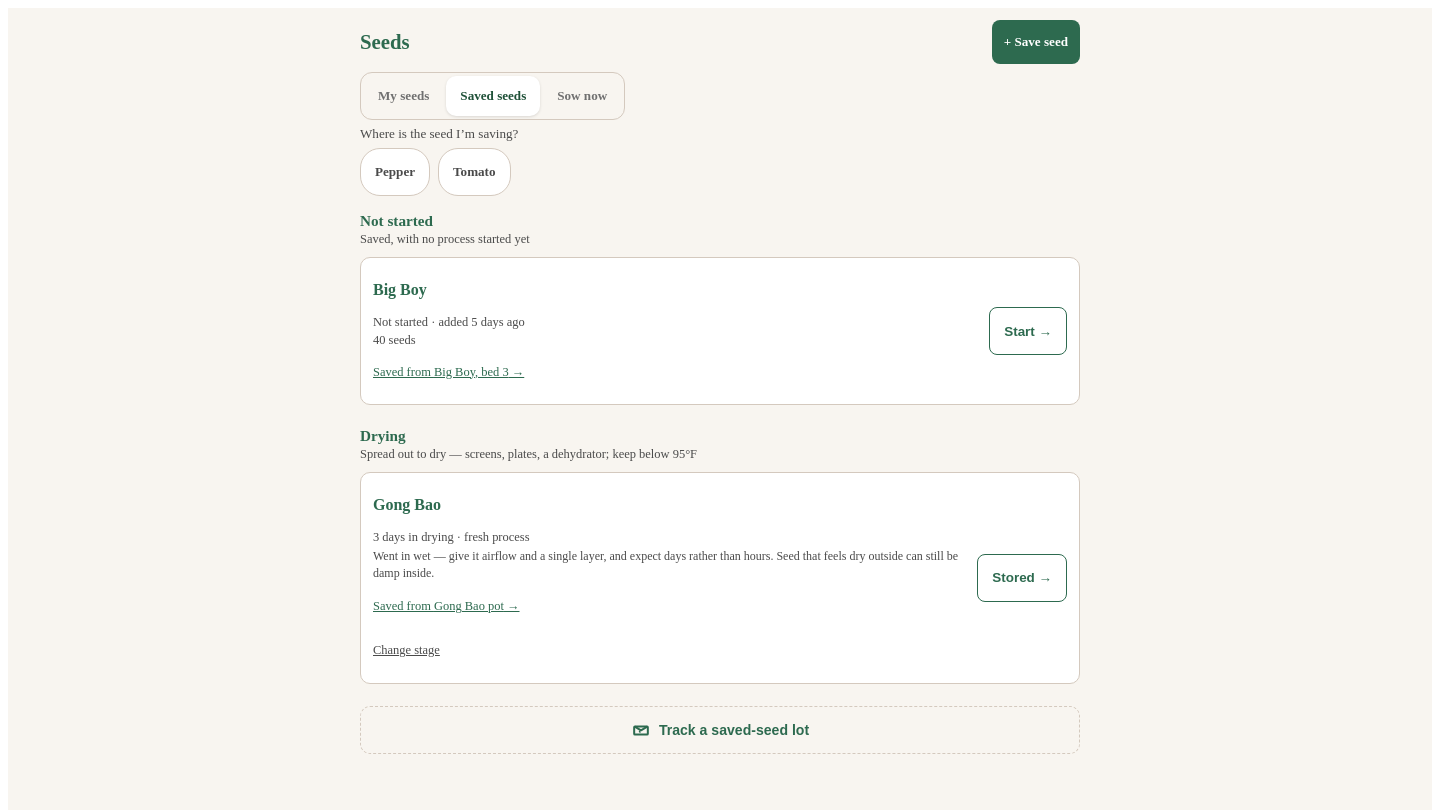
Test case: Seeds › Saved seeds — doors off a lot card, on real history › Start → opens its sheet armed: Back closes it and stays on Saved seeds
Expected: the element with test id "saved-seeds-view" is shown, [360,148,1080,754]
Expected: the element with test id "stage-section-unstarted" is shown, [360,212,1080,405]
Click the button with test id "start-lot": (1028, 331) [989,307,1067,355]
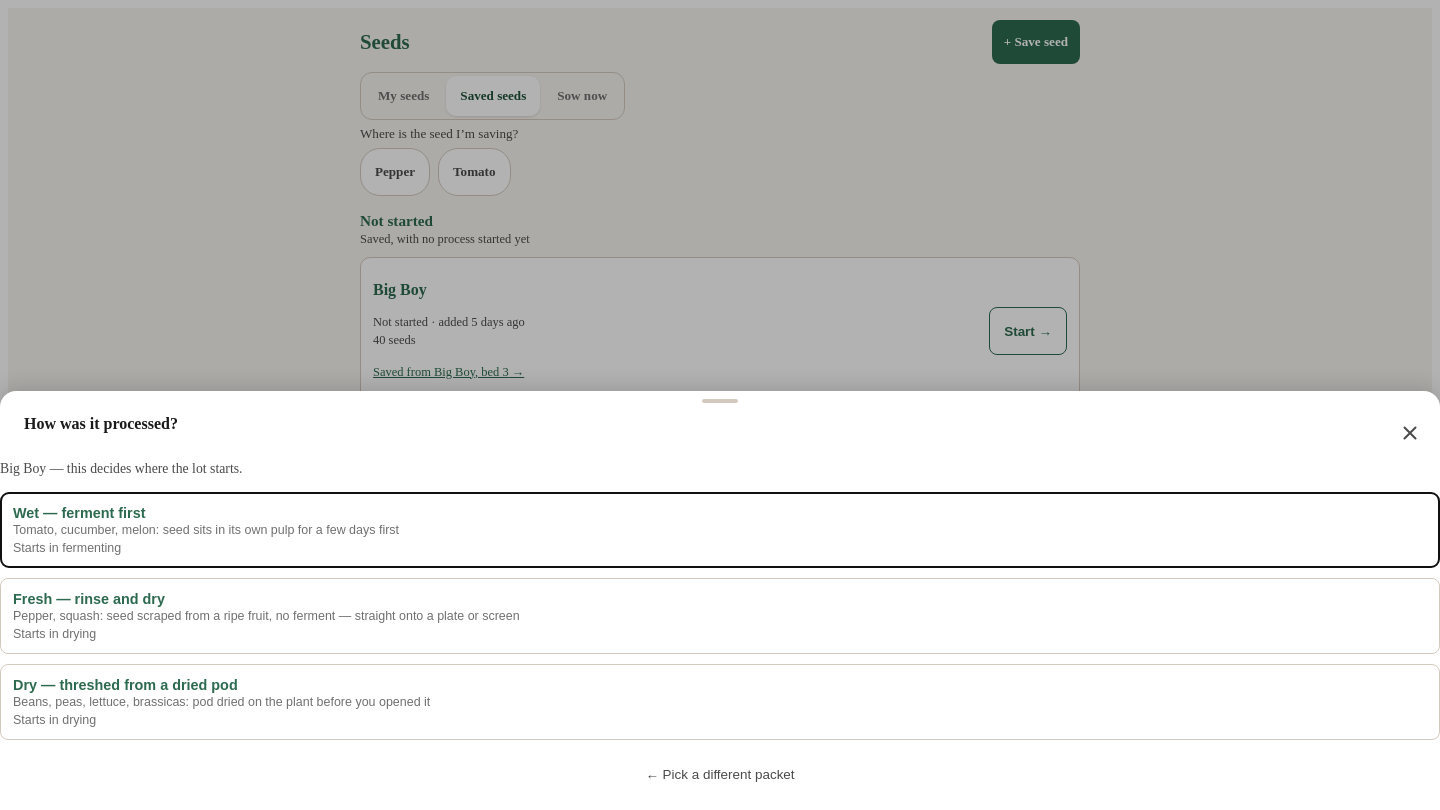
Expected: the element with test id "start-process-step" is shown, [0,459,1439,798]
